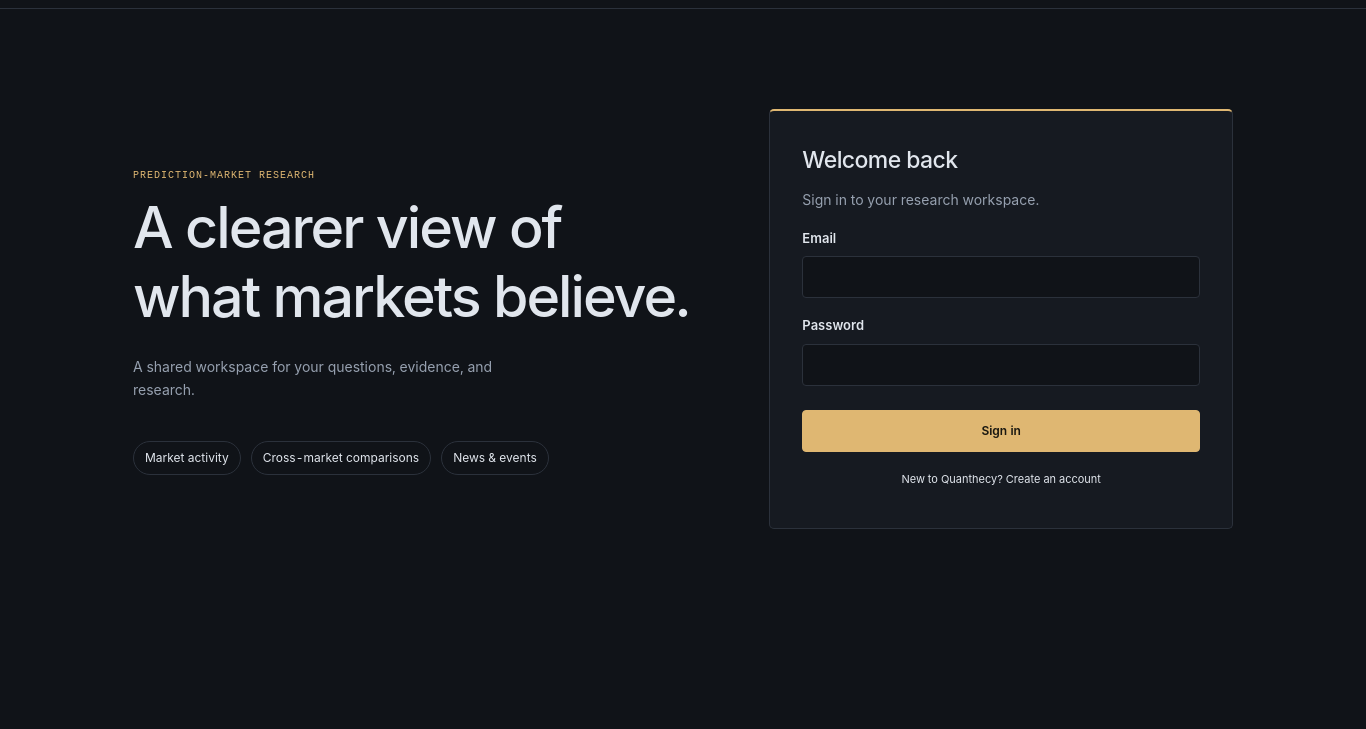
opens the workspace after login and removes private views on logout
The width and height of the screenshot is (1366, 729).
In the field labelled "Email": (1001, 277) x1=802 y1=256 x2=1200 y2=298, type "owner@example.com"
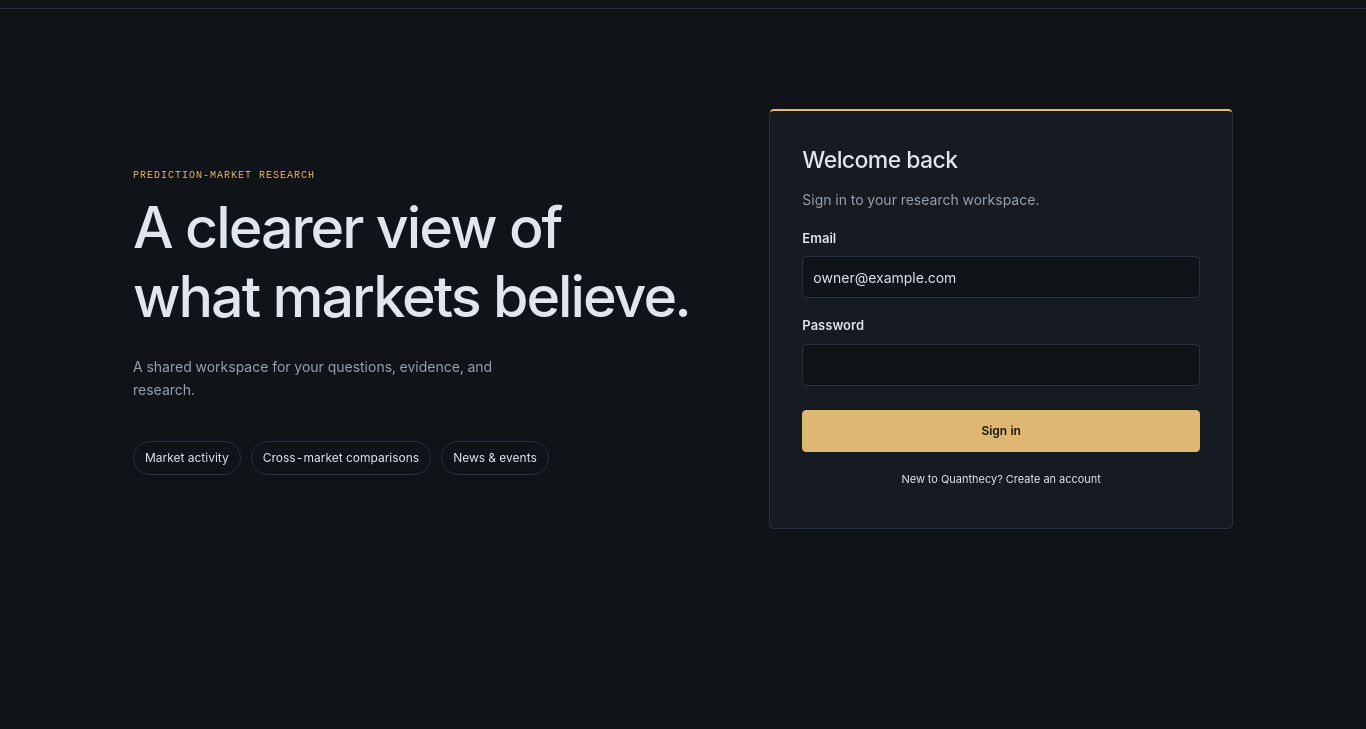
In the password field labelled "Password": (1001, 365) x1=802 y1=344 x2=1200 y2=386, type "test-password"
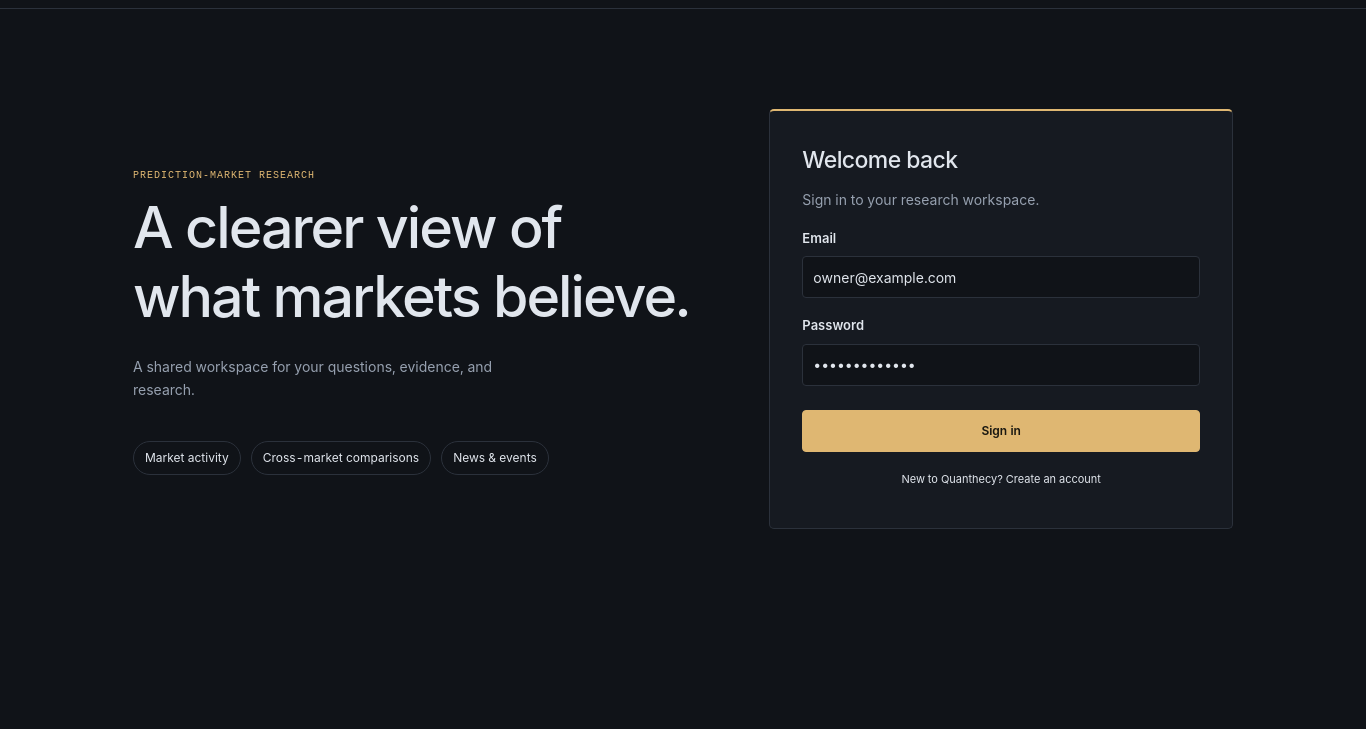
Click the button "Sign in": (1001, 431) x1=802 y1=410 x2=1200 y2=452
(page scrolled)
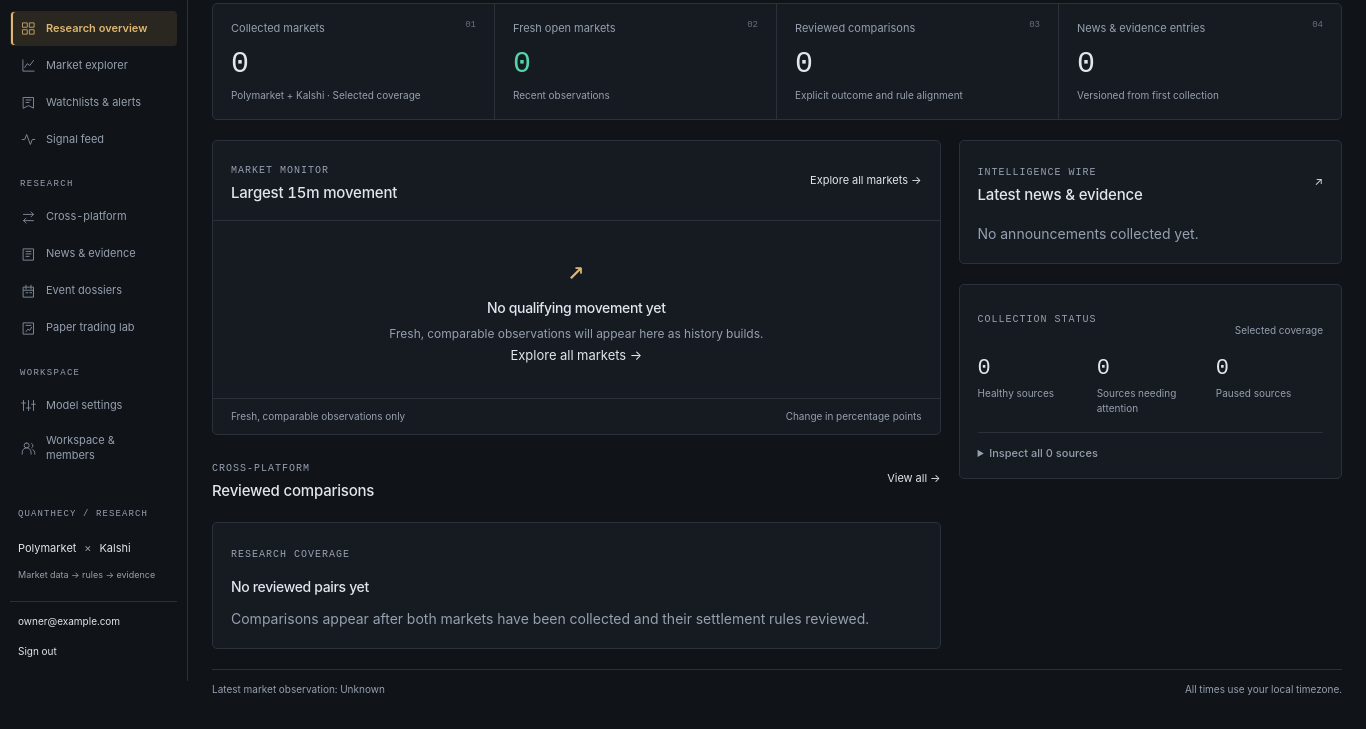
Click the button "Sign out": (37, 651) x1=18 y1=635 x2=57 y2=667
(page scrolled)
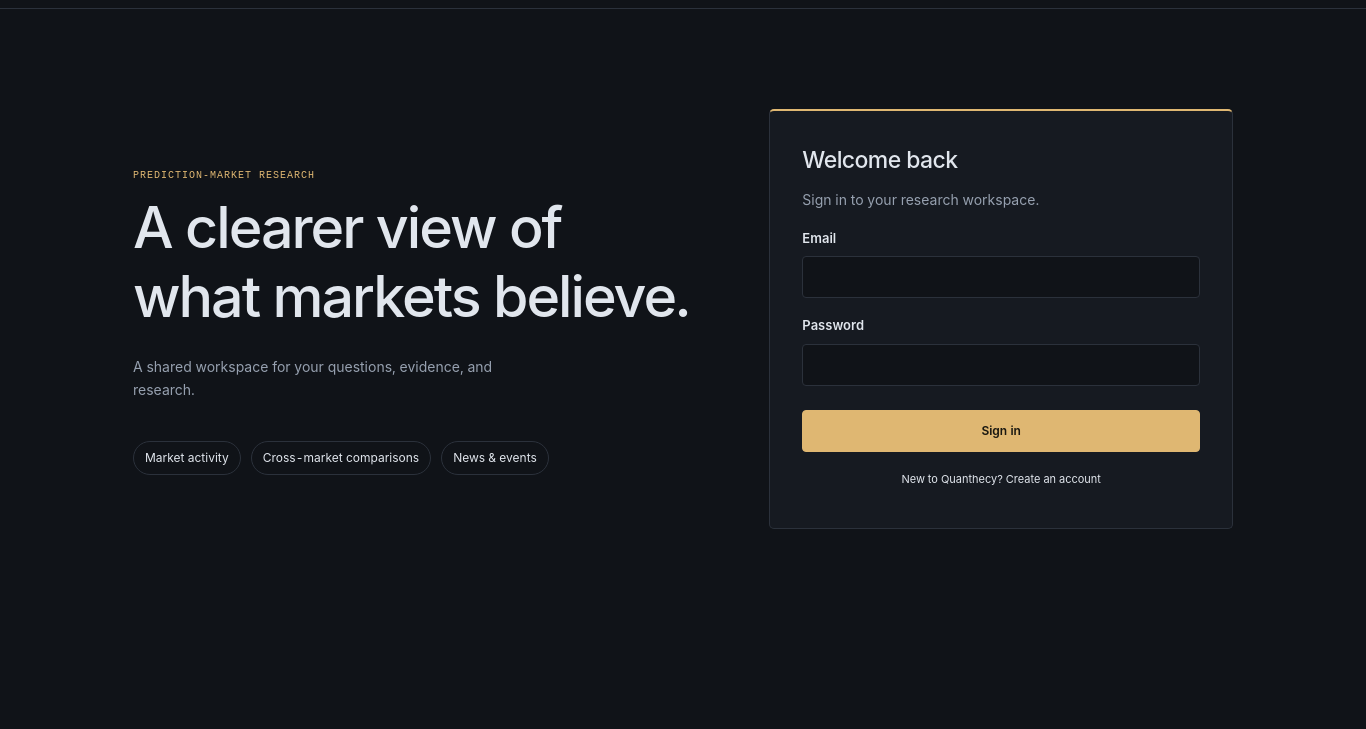
Expected: the heading "Welcome back" is shown, x1=802 y1=146 x2=958 y2=174
